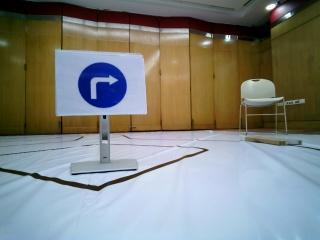right: (65, 51, 142, 112)
